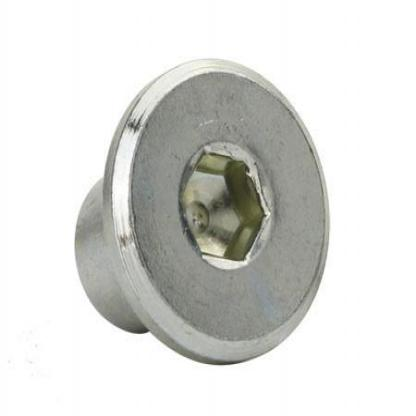FOD: (72, 62, 334, 366)
